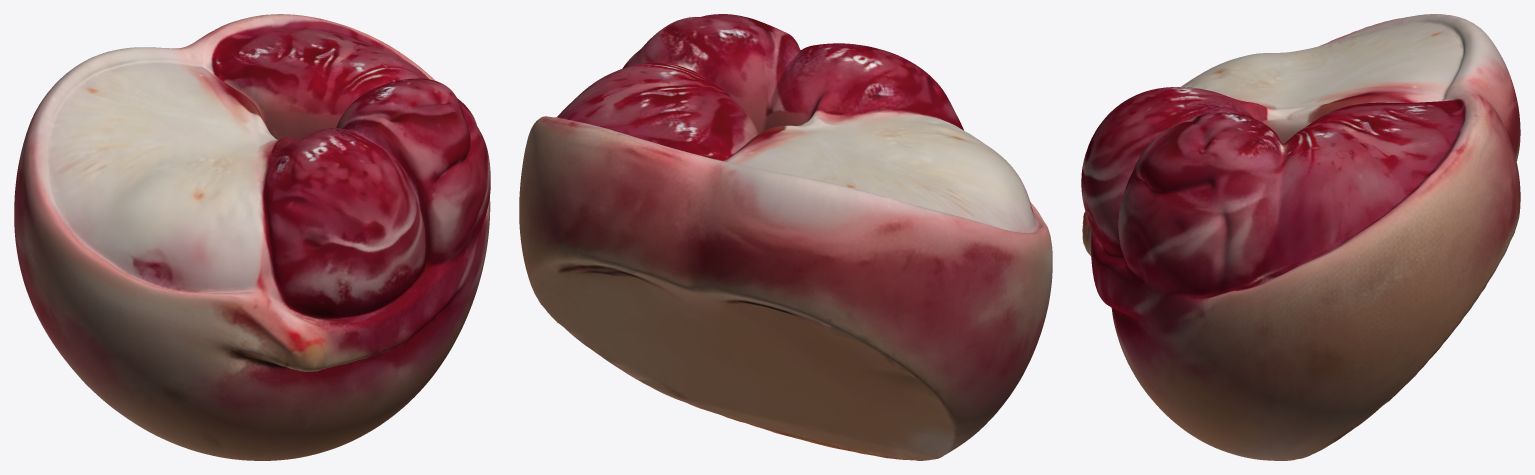
The model's file is mastitis-udder.glb.
3 renders of one model, left to right at view 1: azimuth 30°, elevation 25°; view 2: azimuth 150°, elevation 25°; view 3: azimuth 270°, elevation 25°, orthographic. The views are drawn at different scales.
Visible parts, largest first — view 1: model; view 2: model; view 3: model.
Boxes of the visible parts, bbox=[...] form: model: bbox=[14, 14, 490, 460]; model: bbox=[519, 14, 1052, 460]; model: bbox=[1081, 14, 1520, 460].
Bounding box in the file's own units: 1.9 × 1.44 × 1.58.
1 material, 1 textured.
